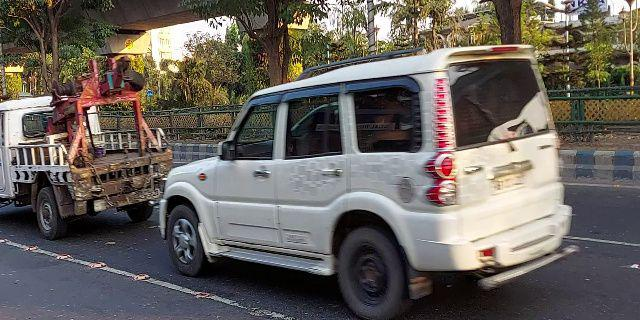Car: (154, 42, 578, 320)
Minitruck: (1, 91, 174, 242)
